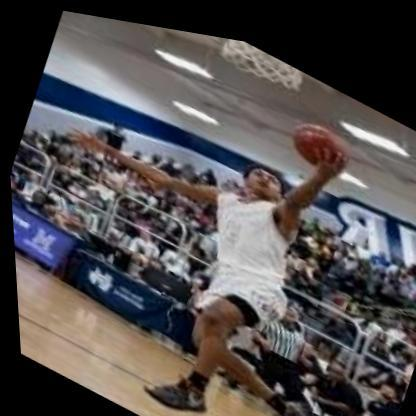basketball: (285, 100, 358, 176)
